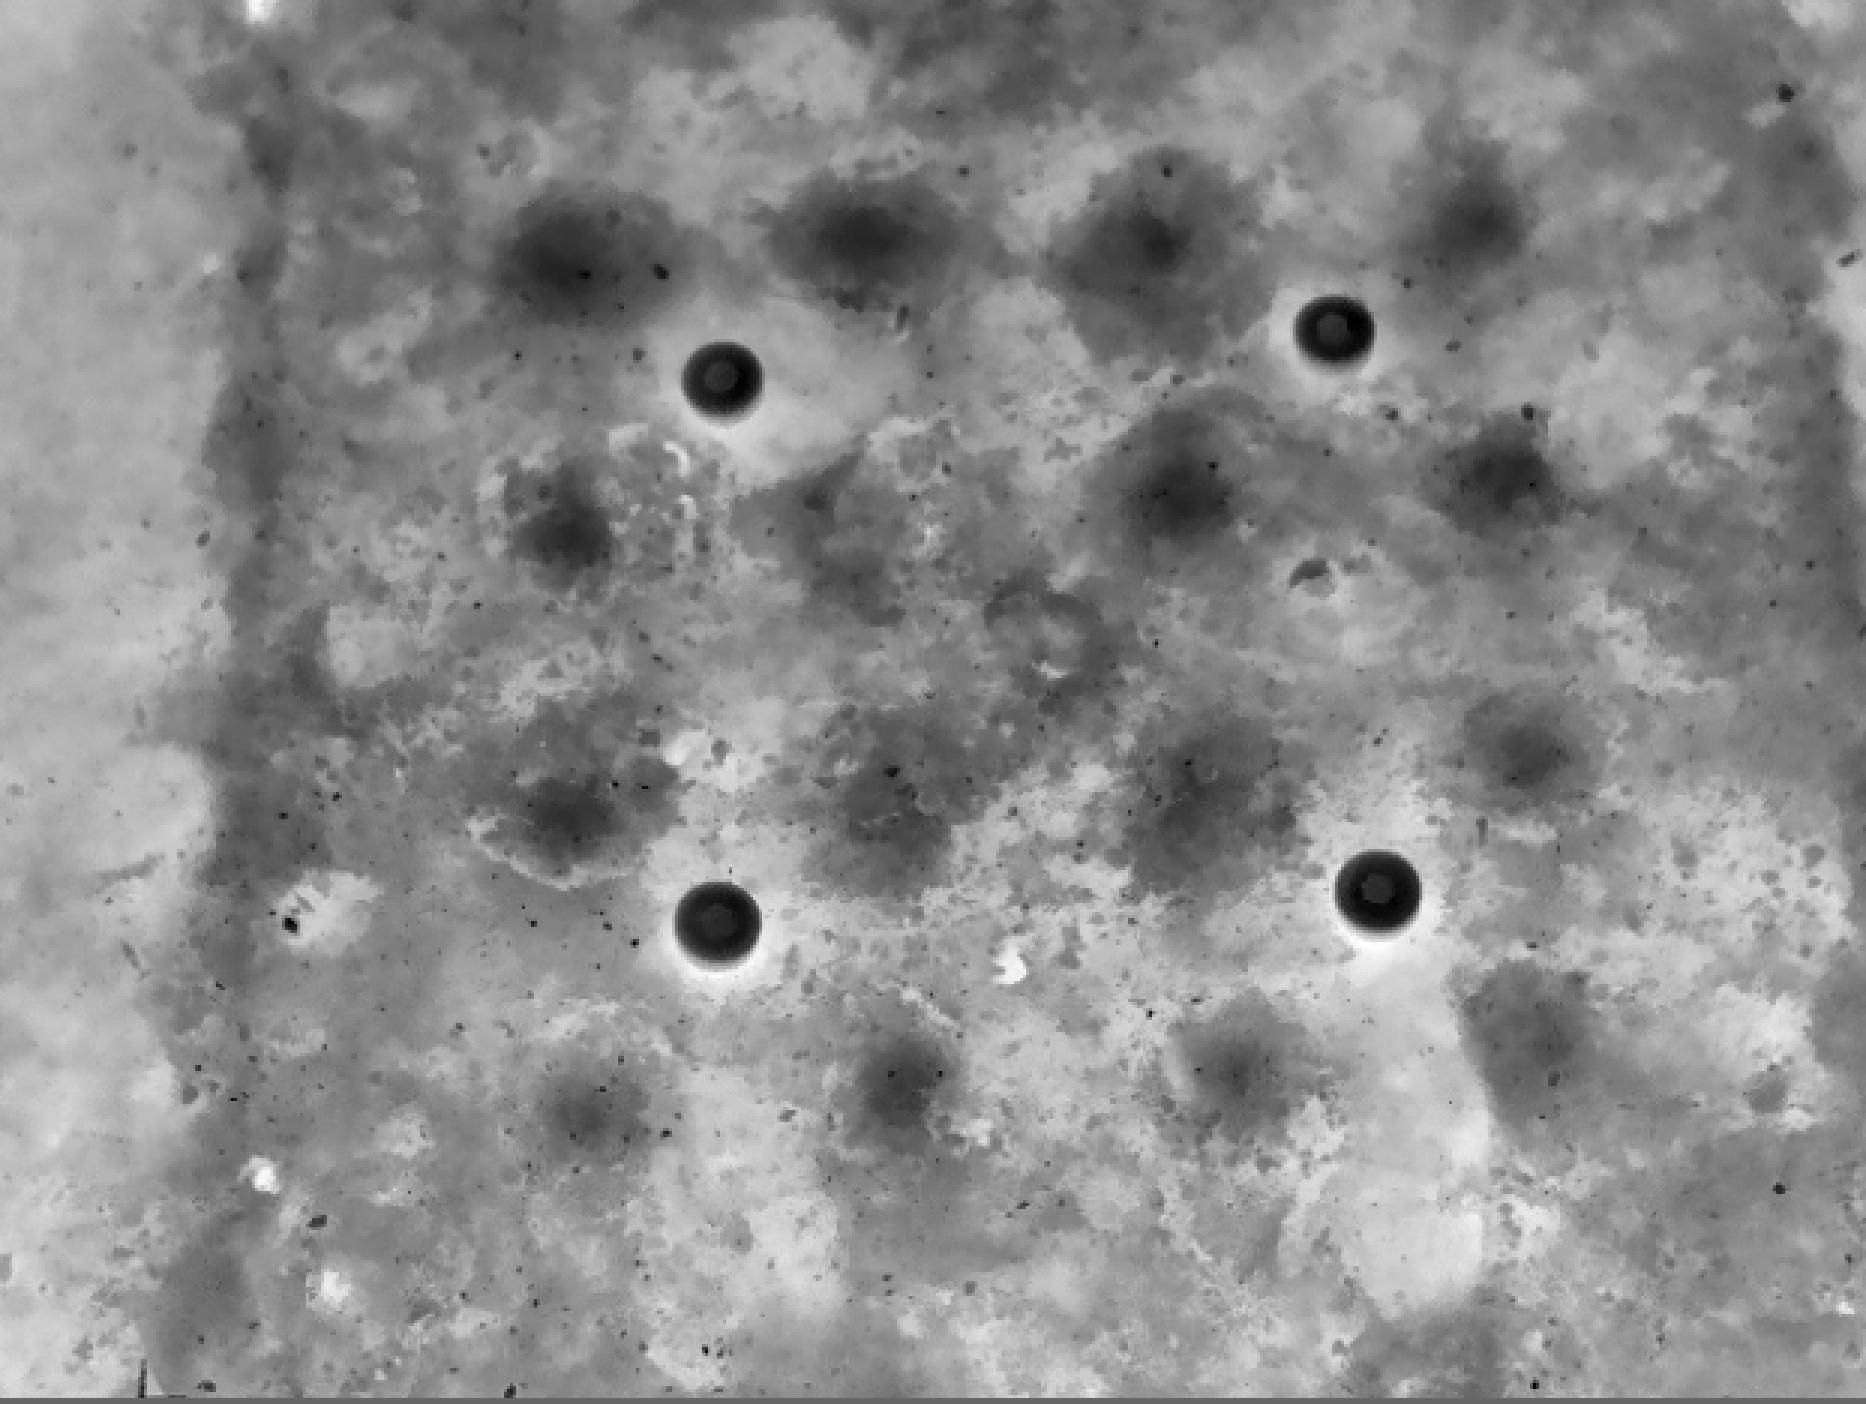mines-gjV8: (676, 875, 779, 978), (1335, 852, 1423, 936), (1285, 305, 1373, 379), (687, 342, 763, 420)
